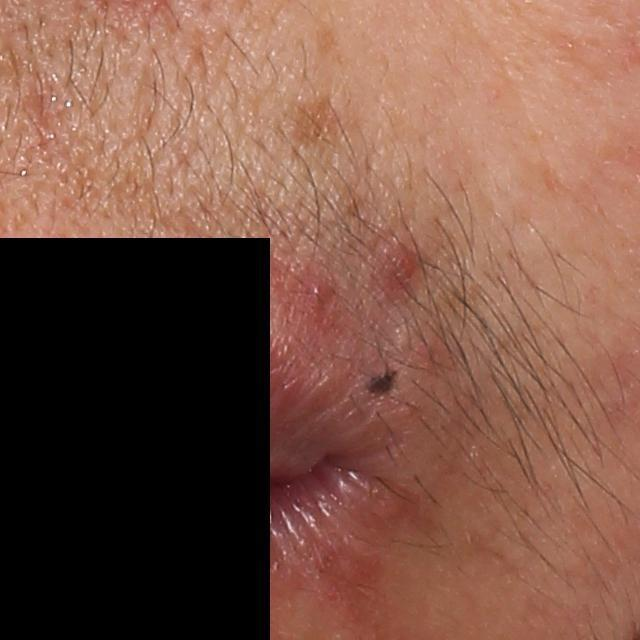melasma: (286, 86, 349, 161)
nevus: (363, 366, 401, 399)
